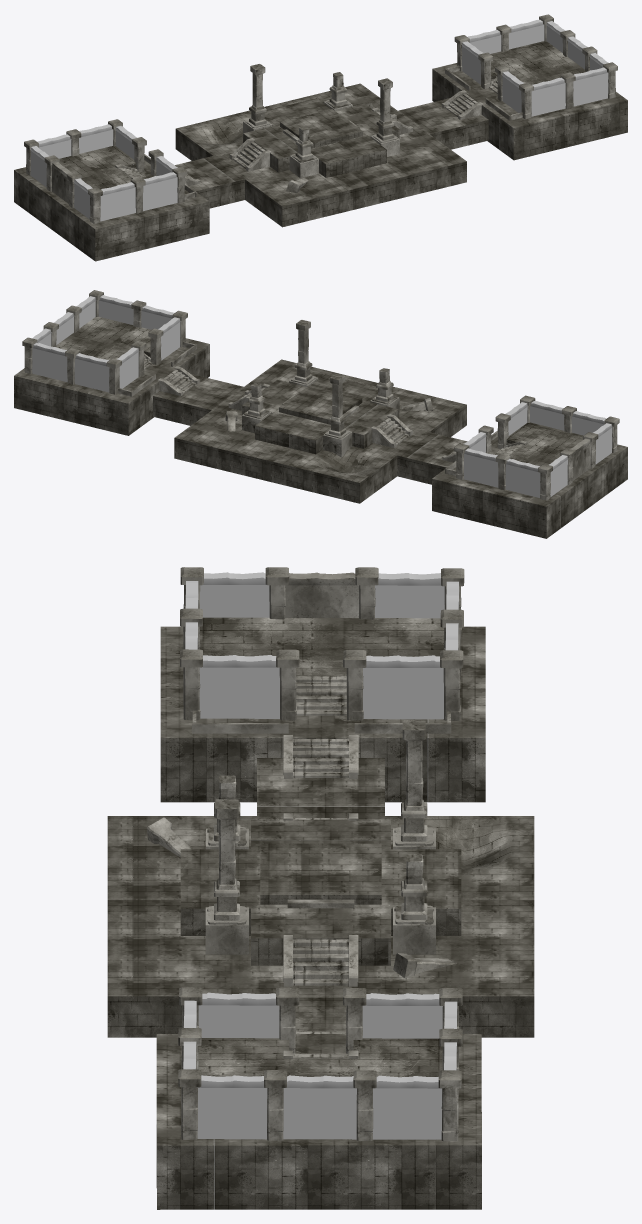
The model's file is Level_Design7.fbx.
The picture shows the model from 3 angles, top to bottom: view 1: azimuth 30°, elevation 25°; view 2: azimuth 150°, elevation 25°; view 3: azimuth 270°, elevation 25°; orthographic projection. The views are drawn at different scales.
Visible parts, largest first — view 1: Levels_Mid_base, Levels_Base1 (×2), Levels_Platform, Levels_Base2 (×2), Levels_Wall4 (×2), Levels_Wall6 (×2), Levels_Wall9 (×2), Levels_Full_Pillar (×2), Levels_Wall (×2), Levels_Wall5 (×2), Levels_Broken_Pillar3 (×2), Levels_Wall10 (×2) (+9 smaller); view 2: Levels_Mid_base, Levels_Base1 (×2), Levels_Platform, Levels_Base2 (×2), Levels_Wall9 (×2), Levels_Wall (×2), Levels_Wall4 (×2), Levels_Full_Pillar (×2), Levels_Wall6 (×2), Levels_Wall2 (×2), Levels_Broken_Pillar3 (×2), Levels_Wall10 (×2) (+10 smaller); view 3: Levels_Base1 (×2), Levels_Mid_base, Levels_Platform, Levels_Base2 (×2), Levels_Wall5 (×2), Levels_Wall2 (×2), Levels_Wall10 (×2), Levels_Wall7 (×2), Levels_Wall8 (×2), Levels_Stair2 (×3), Levels_Full_Pillar (×2), Levels_pCube4 (×2) (+11 smaller).
Boxes of the visible parts, left/top/right/bottom form: Levels_Mid_base: left=175, top=83, right=488, bottom=227; Levels_Base1 (×2): left=14, top=63, right=627, bottom=261; Levels_Platform: left=243, top=98, right=399, bottom=177; Levels_Base2 (×2): left=59, top=41, right=585, bottom=189; Levels_Wall4 (×2): left=100, top=19, right=544, bottom=221; Levels_Wall6 (×2): left=79, top=77, right=565, bottom=153; Levels_Wall9 (×2): left=37, top=67, right=608, bottom=158; Levels_Full_Pillar (×2): left=245, top=64, right=397, bottom=142; Levels_Wall (×2): left=143, top=30, right=501, bottom=211; Levels_Wall5 (×2): left=115, top=71, right=524, bottom=159; Levels_Broken_Pillar3 (×2): left=292, top=72, right=350, bottom=162; Levels_Wall10 (×2): left=51, top=36, right=587, bottom=203; Levels_Mid_base: left=153, top=359, right=467, bottom=503; Levels_Base1 (×2): left=14, top=338, right=627, bottom=538; Levels_Platform: left=242, top=374, right=399, bottom=454; Levels_Base2 (×2): left=56, top=316, right=582, bottom=465; Levels_Wall9 (×2): left=98, top=295, right=540, bottom=497; Levels_Wall (×2): left=74, top=353, right=564, bottom=430; Levels_Wall4 (×2): left=32, top=342, right=606, bottom=435; Levels_Full_Pillar (×2): left=291, top=320, right=350, bottom=438; Levels_Wall6 (×2): left=141, top=305, right=498, bottom=487; Levels_Wall2 (×2): left=117, top=347, right=527, bottom=435; Levels_Broken_Pillar3 (×2): left=244, top=368, right=397, bottom=418; Levels_Wall10 (×2): left=54, top=312, right=590, bottom=480; Levels_Base1 (×2): left=156, top=626, right=485, bottom=1209; Levels_Mid_base: left=107, top=758, right=534, bottom=1037; Levels_Platform: left=180, top=819, right=461, bottom=965; Levels_Base2 (×2): left=198, top=617, right=444, bottom=1077; Levels_Wall5 (×2): left=198, top=655, right=443, bottom=1038; Levels_Wall2 (×2): left=199, top=655, right=442, bottom=1038; Levels_Wall10 (×2): left=283, top=572, right=358, bottom=1139; Levels_Wall7 (×2): left=196, top=573, right=444, bottom=1139; Levels_Wall8 (×2): left=200, top=572, right=441, bottom=1139; Levels_Stair2 (×3): left=293, top=675, right=348, bottom=985; Levels_Full_Pillar (×2): left=207, top=720, right=433, bottom=924; Levels_pCube4 (×2): left=205, top=907, right=435, bottom=954.
Bounding box in the file's own units: 101 × 17.01 × 35.2.
